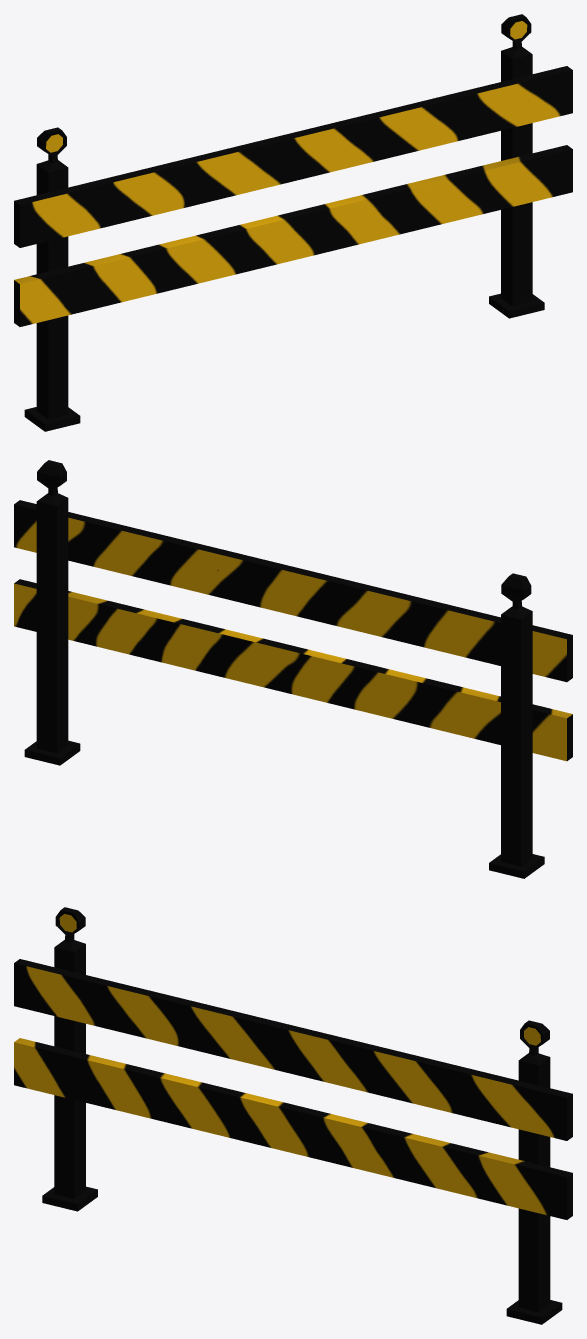
Rendered from roadblock.glb.
3 views of the same model, one above another, from view 1: azimuth 30°, elevation 25°; view 2: azimuth 150°, elevation 25°; view 3: azimuth 330°, elevation 25° (orthographic).
Visible parts, largest first — view 1: roadblock; view 2: roadblock; view 3: roadblock.
Boxes of the visible parts, x1,y1,x2,y2 form: roadblock: (14, 14, 572, 431); roadblock: (14, 460, 572, 878); roadblock: (14, 907, 572, 1324).
Bounding box in the file's own units: 2.38 × 1.19 × 0.1635.
1 material, 1 textured.
